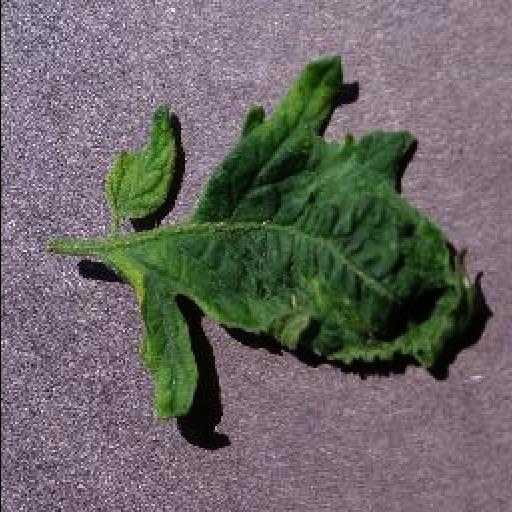disease_tomato: (110, 58, 476, 420)
